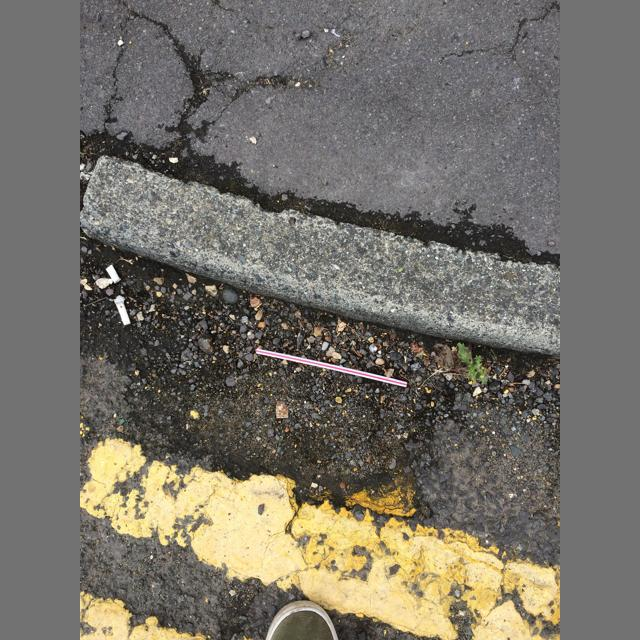litter: (256, 348, 407, 387), (113, 296, 130, 326), (105, 264, 121, 284)
